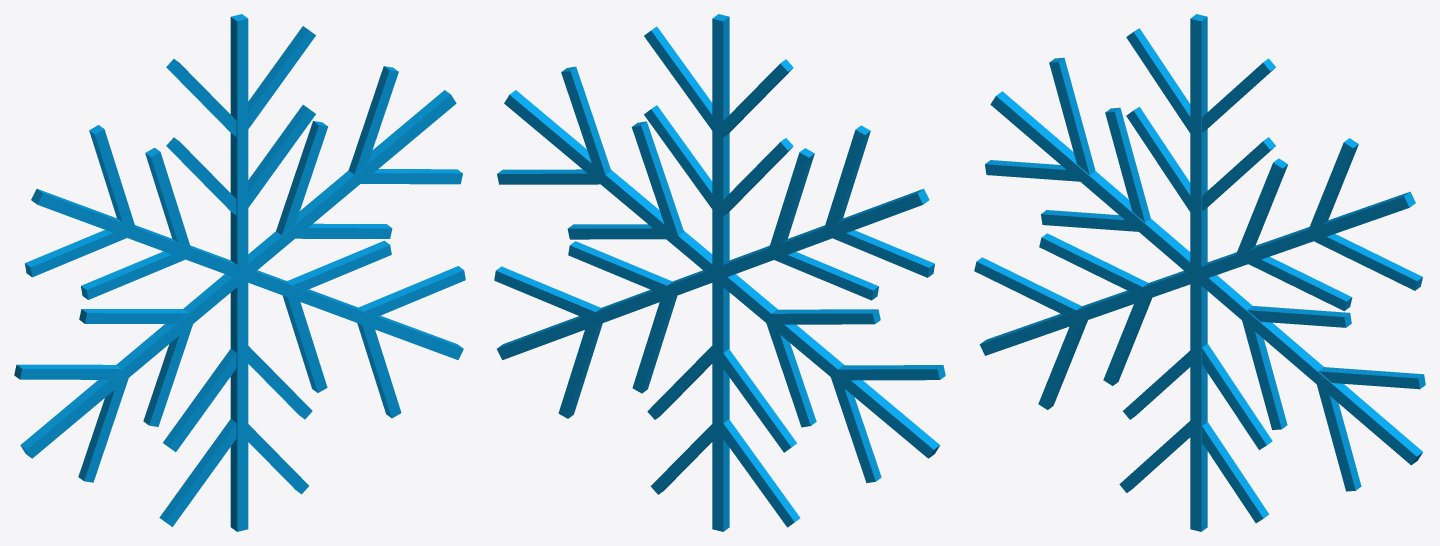
Rendered from snowflake.glb.
The picture shows the model from 3 angles, left to right: view 1: azimuth 30°, elevation 25°; view 2: azimuth 150°, elevation 25°; view 3: azimuth 330°, elevation 25°; orthographic projection.
Visible parts, largest first — view 1: mesh_id33, mesh_id27, mesh_id39, mesh_id78, mesh_id155, mesh_id171, mesh_id67, mesh_id47, mesh_id115, mesh_id104, mesh_id183, mesh_id144 (+16 smaller); view 2: mesh_id33, mesh_id27, mesh_id39, mesh_id78, mesh_id155, mesh_id171, mesh_id94, mesh_id67, mesh_id47, mesh_id115, mesh_id183, mesh_id136 (+18 smaller); view 3: mesh_id39, mesh_id27, mesh_id33, mesh_id137, mesh_id145, mesh_id88, mesh_id132, mesh_id77, mesh_id184, mesh_id172, mesh_id66, mesh_id105 (+18 smaller).
Part boxes in pixels (x1=…): mesh_id33: x1=20, y1=90, x2=456, y2=458; mesh_id27: x1=230, y1=14, x2=248, y2=531; mesh_id39: x1=31, y1=189, x2=463, y2=359; mesh_id78: x1=159, y1=419, x2=236, y2=526; mesh_id155: x1=276, y1=121, x2=328, y2=235; mesh_id171: x1=348, y1=66, x2=398, y2=174; mesh_id67: x1=236, y1=105, x2=315, y2=209; mesh_id47: x1=248, y1=26, x2=315, y2=128; mesh_id115: x1=359, y1=266, x2=465, y2=316; mesh_id104: x1=287, y1=240, x2=391, y2=290; mesh_id183: x1=78, y1=378, x2=128, y2=482; mesh_id144: x1=81, y1=251, x2=184, y2=299; mesh_id33: x1=504, y1=90, x2=940, y2=458; mesh_id27: x1=712, y1=14, x2=729, y2=531; mesh_id39: x1=497, y1=188, x2=929, y2=359; mesh_id78: x1=719, y1=419, x2=800, y2=527; mesh_id155: x1=631, y1=121, x2=683, y2=236; mesh_id171: x1=561, y1=66, x2=611, y2=182; mesh_id94: x1=723, y1=349, x2=796, y2=451; mesh_id67: x1=644, y1=105, x2=723, y2=211; mesh_id47: x1=644, y1=26, x2=718, y2=135; mesh_id115: x1=494, y1=266, x2=600, y2=318; mesh_id183: x1=829, y1=372, x2=881, y2=483; mesh_id136: x1=825, y1=225, x2=934, y2=277; mesh_id39: x1=990, y1=91, x2=1422, y2=465; mesh_id27: x1=1190, y1=14, x2=1207, y2=531; mesh_id33: x1=979, y1=191, x2=1415, y2=355; mesh_id137: x1=1049, y1=57, x2=1095, y2=174; mesh_id145: x1=1105, y1=107, x2=1150, y2=222; mesh_id88: x1=1202, y1=343, x2=1272, y2=449; mesh_id132: x1=1039, y1=233, x2=1147, y2=291; mesh_id77: x1=1189, y1=422, x2=1269, y2=523; mesh_id184: x1=974, y1=257, x2=1081, y2=314; mesh_id172: x1=1314, y1=234, x2=1422, y2=290; mesh_id66: x1=1126, y1=107, x2=1190, y2=211; mesh_id105: x1=1242, y1=320, x2=1287, y2=429.
Size of the model in its own units: 0.3884 by 0.425 by 0.00974.
35 materials, 35 textured.
